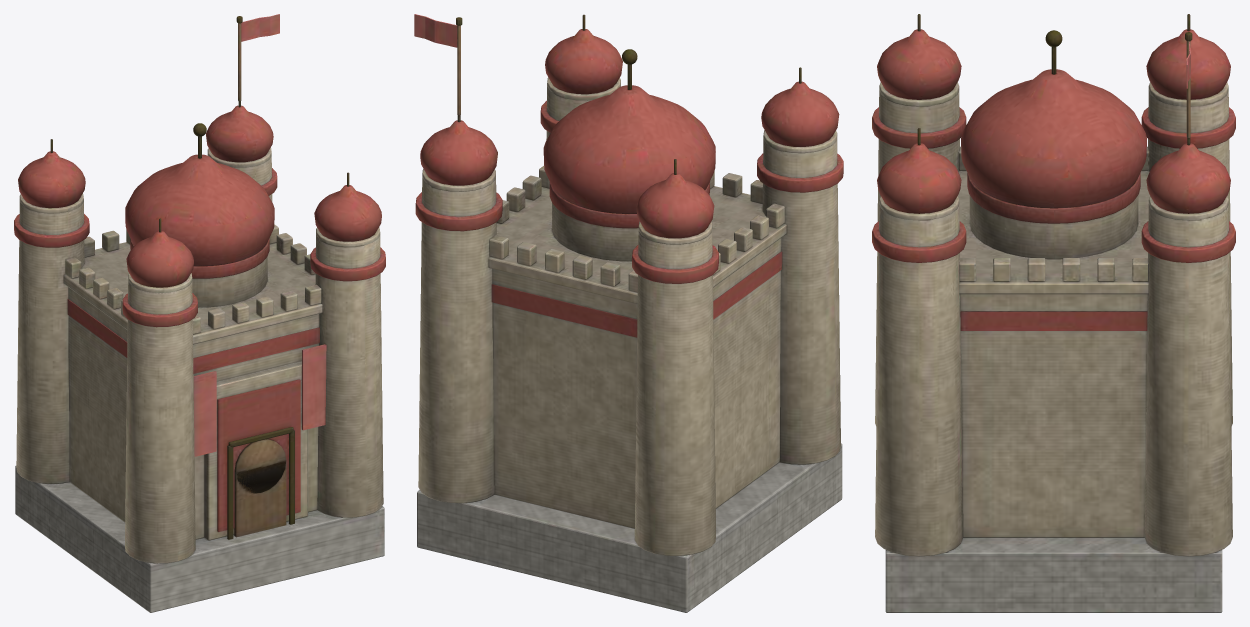
The model's file is keep_turan.glb.
3 renders of one model, left to right at view 1: azimuth 30°, elevation 25°; view 2: azimuth 150°, elevation 25°; view 3: azimuth 270°, elevation 25°, orthographic. The views are drawn at different scales.
Visible parts, largest first — view 1: keep_turan; view 2: keep_turan; view 3: keep_turan.
Part boxes in pixels (left/top/right/bottom): keep_turan: left=14, top=14, right=385, bottom=612; keep_turan: left=414, top=14, right=843, bottom=612; keep_turan: left=872, top=14, right=1235, bottom=612.
Size of the model in its own units: 8.86 by 14.84 by 8.64.
1 material, 1 textured.
